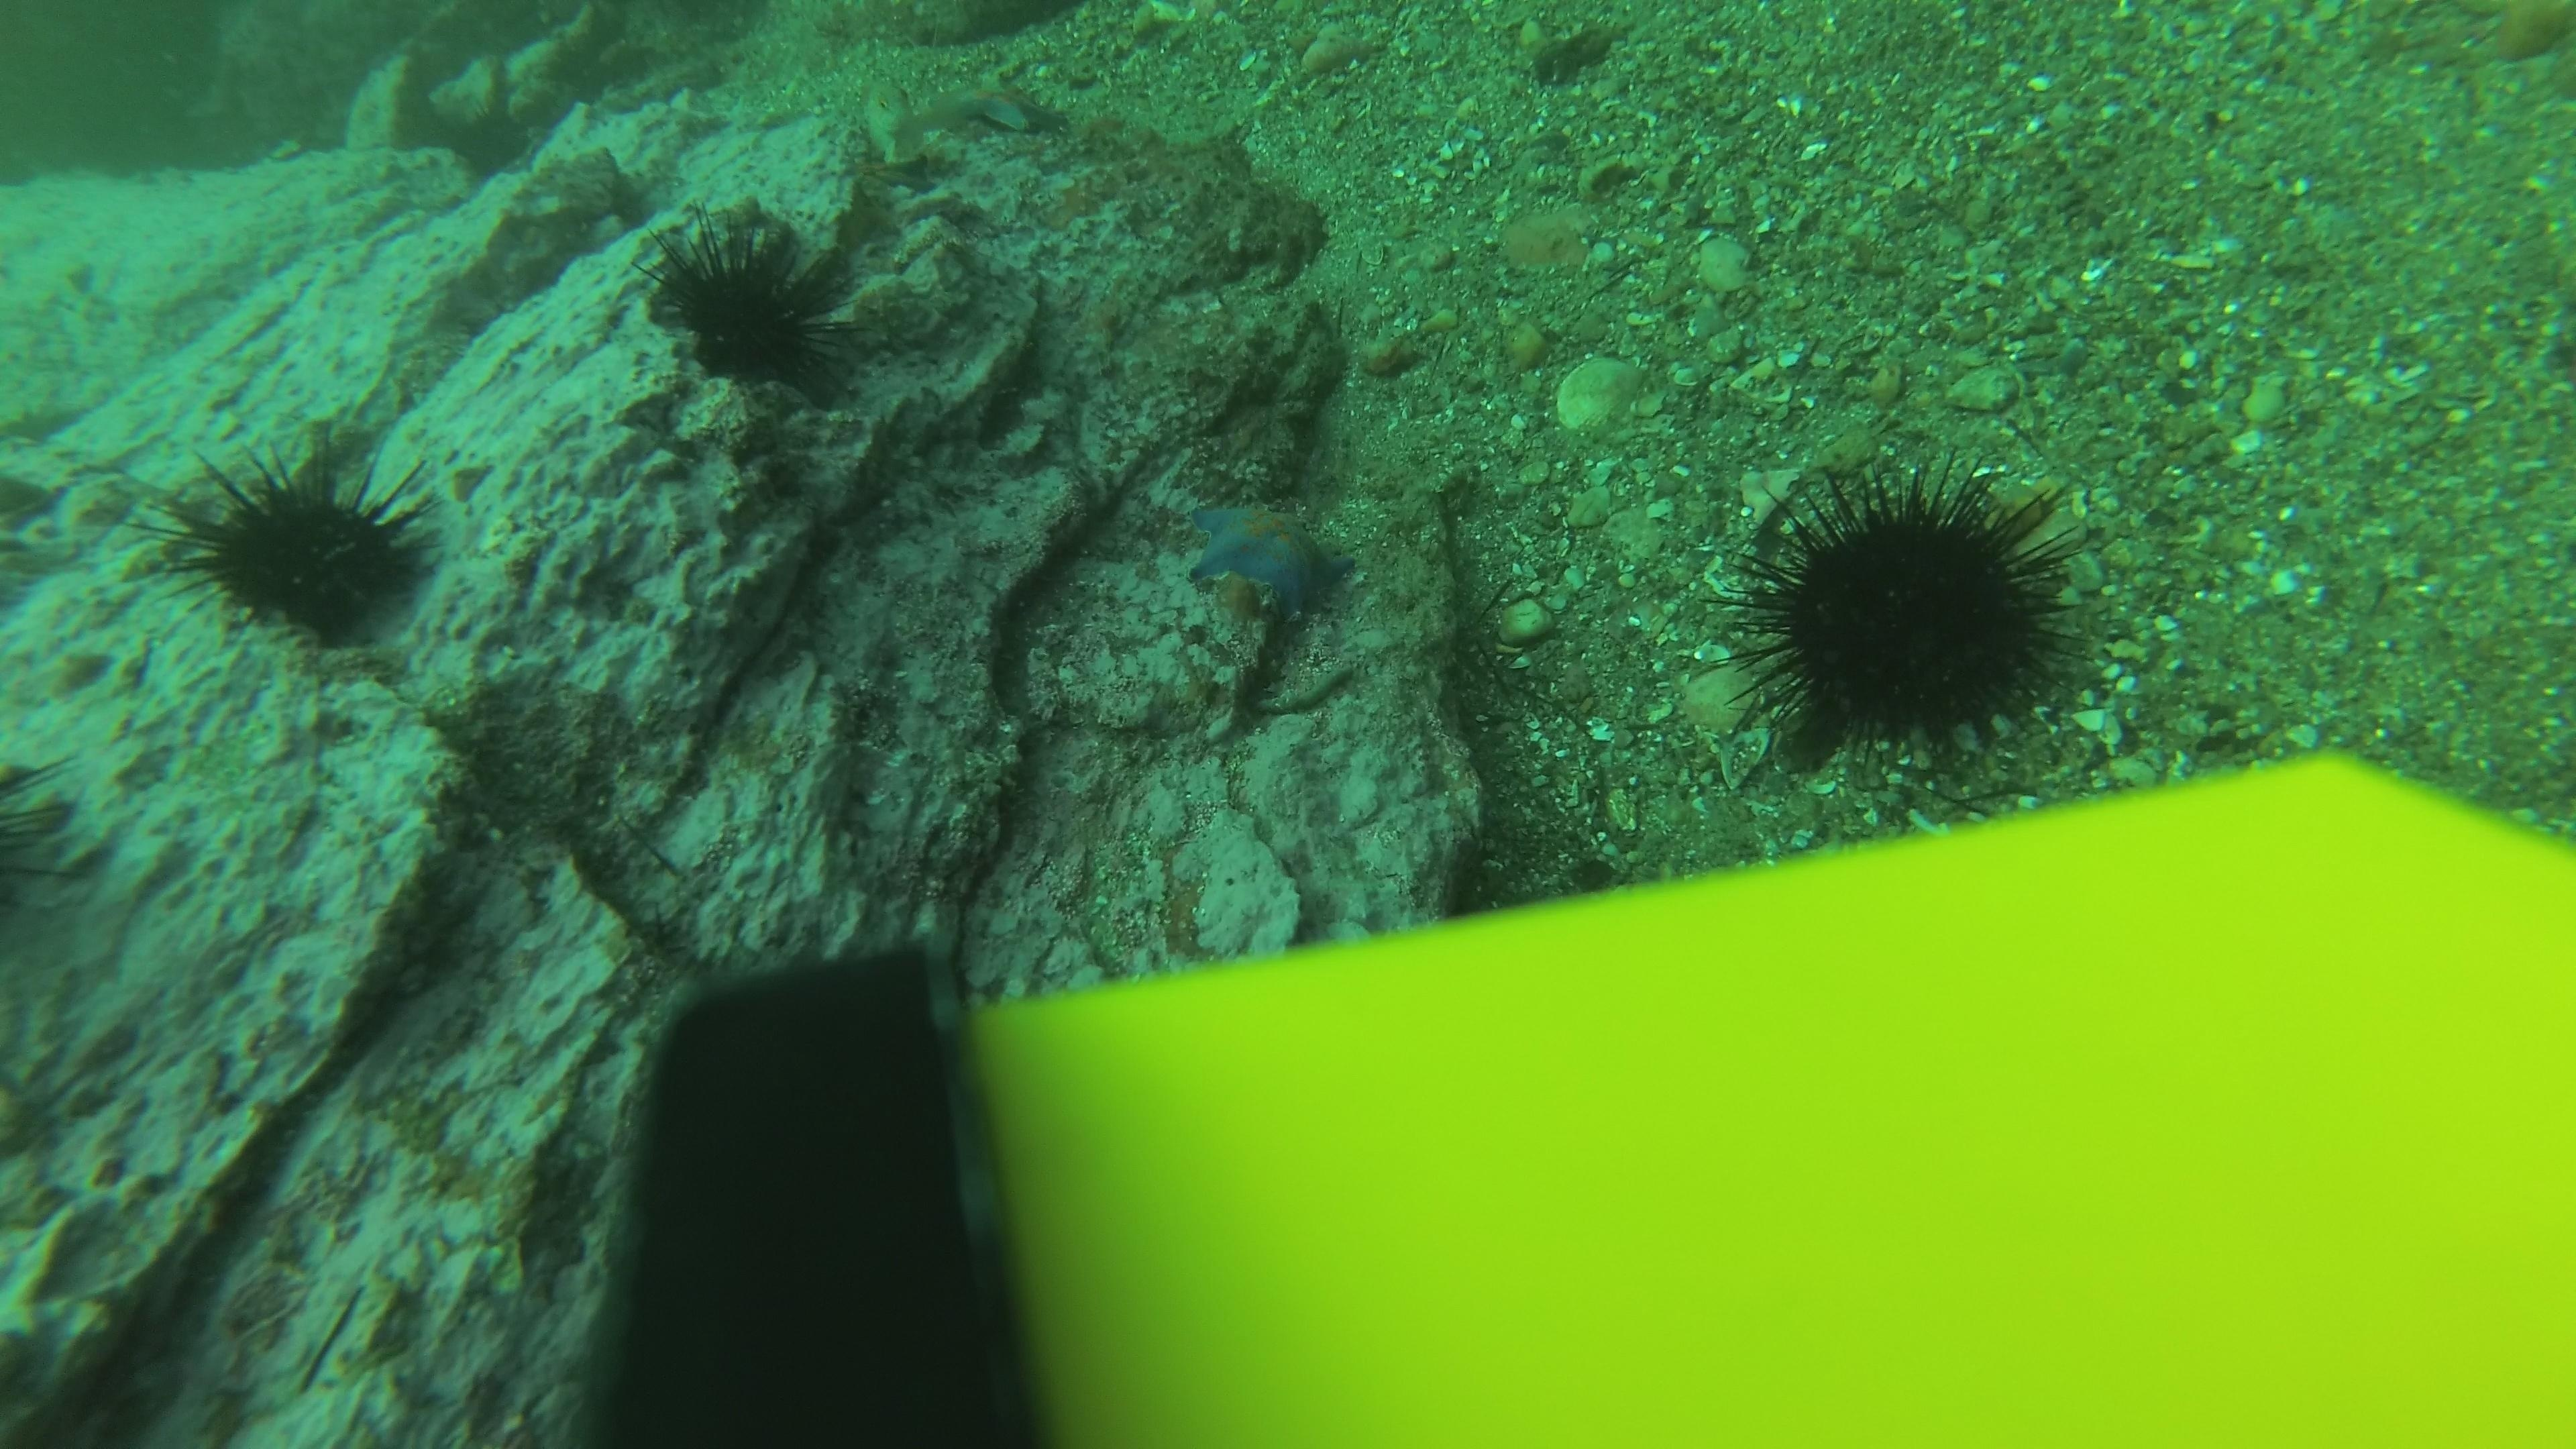echinus: (1723, 460, 2097, 764), (147, 425, 448, 648), (640, 203, 855, 395)
starfish: (1178, 492, 1359, 621), (916, 78, 1067, 138), (2470, 0, 2576, 67)
